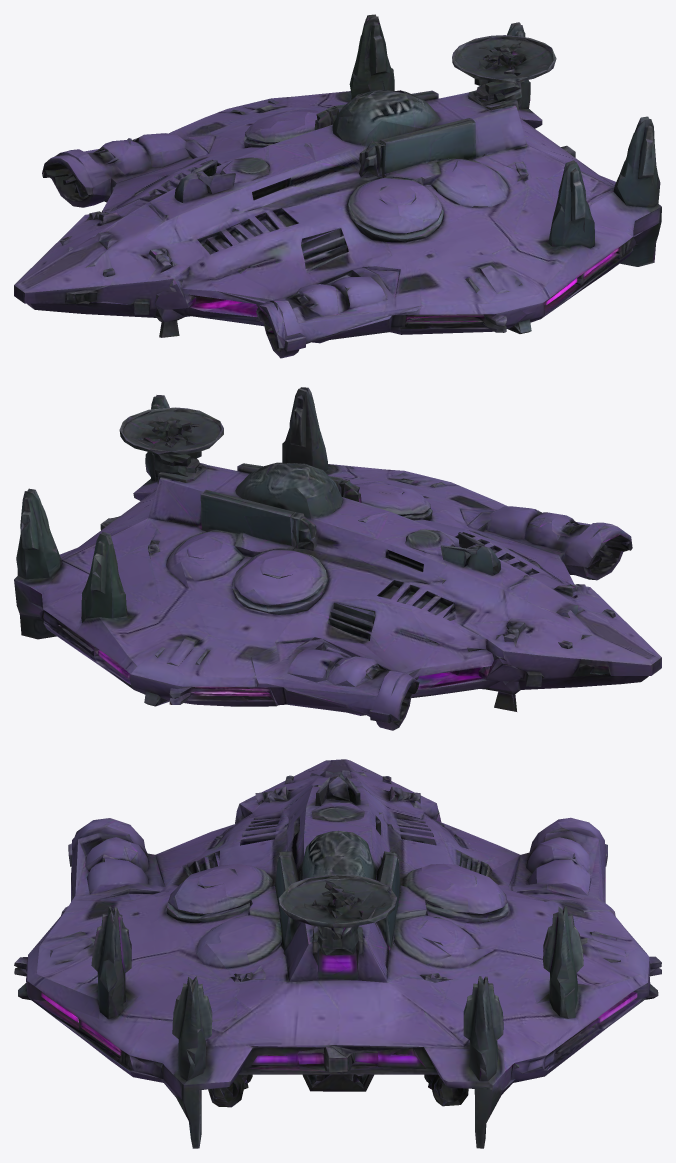
Rendered from enemy-aetherion-capital.glb.
3 views of the same model, one above another, from view 1: azimuth 30°, elevation 25°; view 2: azimuth 150°, elevation 25°; view 3: azimuth 270°, elevation 25° (orthographic). The views are drawn at different scales.
Size of the model in its own units: 1.9 by 0.5994 by 1.64.
1 material, 1 textured.
